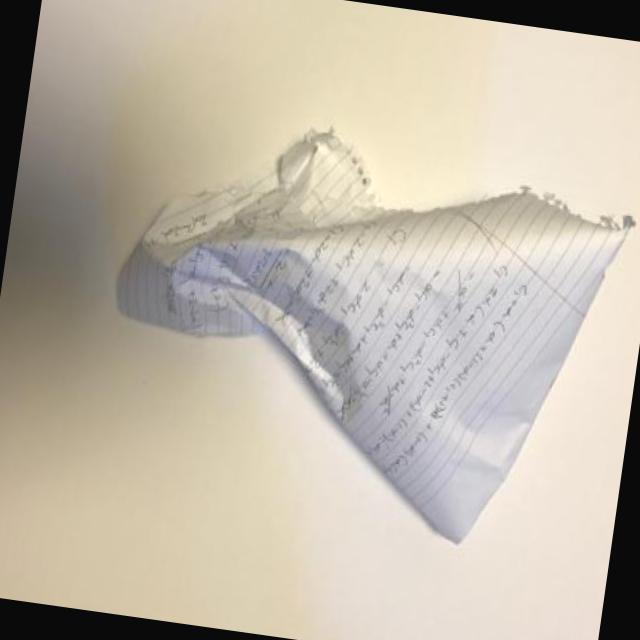giay: (114, 127, 634, 543)
